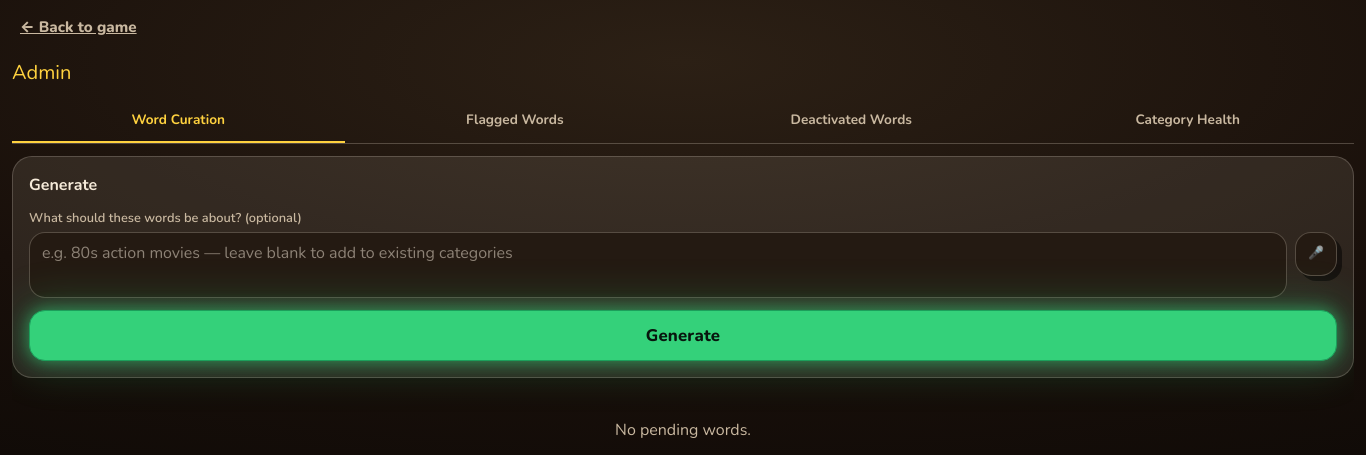
AdminScreen › fetches and shows similar-word suggestions after deactivating a flagged word
Expected: the heading "Generate" is shown, [29,174,97,196]
Click the tab "Flagged Words". click: (515, 121)
box: [348,99,681,143]
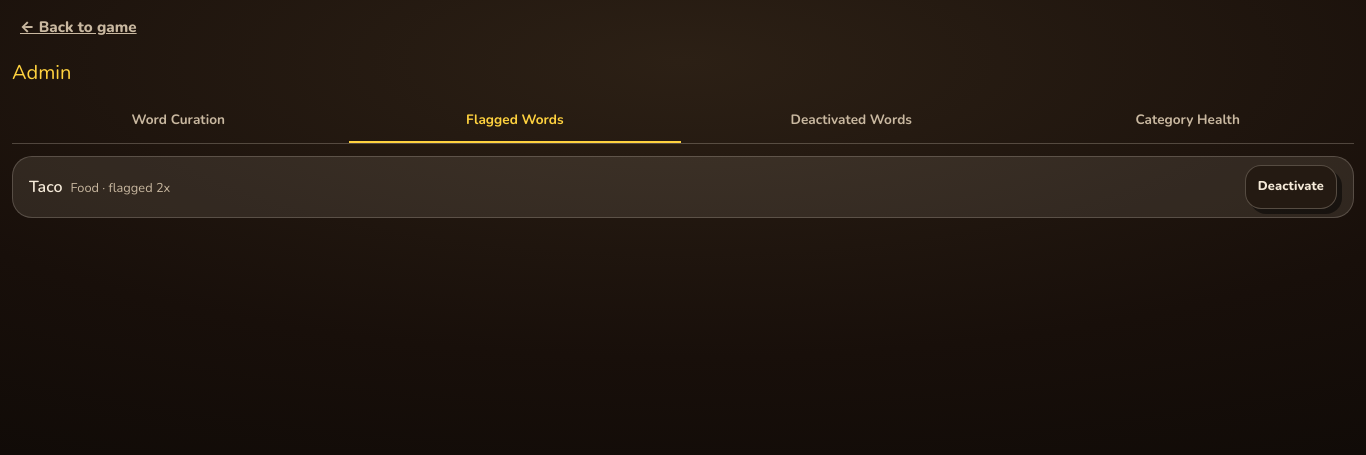
Click the button "Deactivate". click: (1291, 187)
box: [1245,165,1337,209]
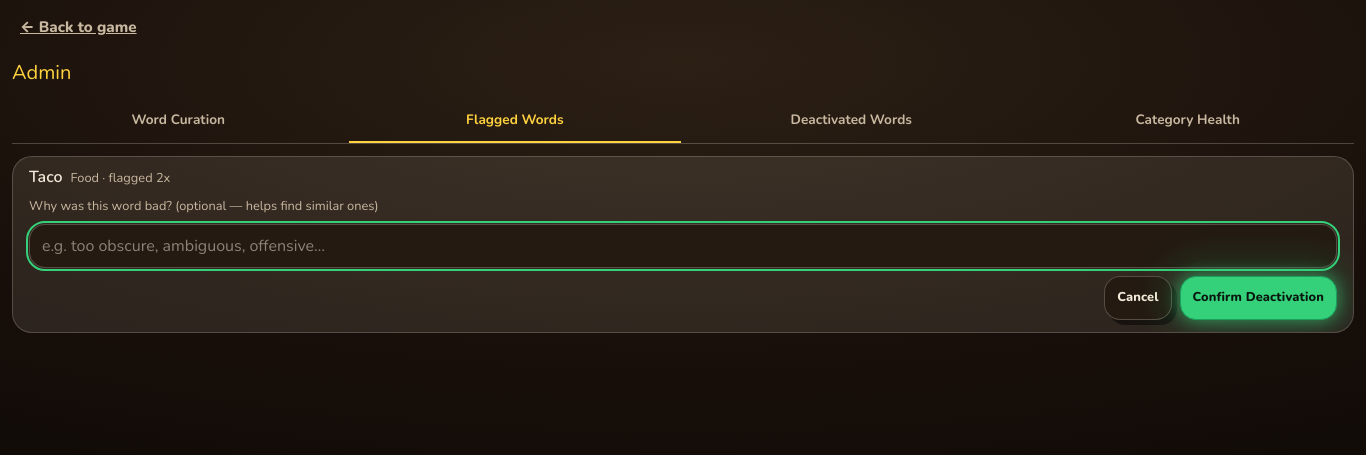
Click the button "Confirm Deactivation". click: (1258, 298)
box: [1180,276,1337,320]
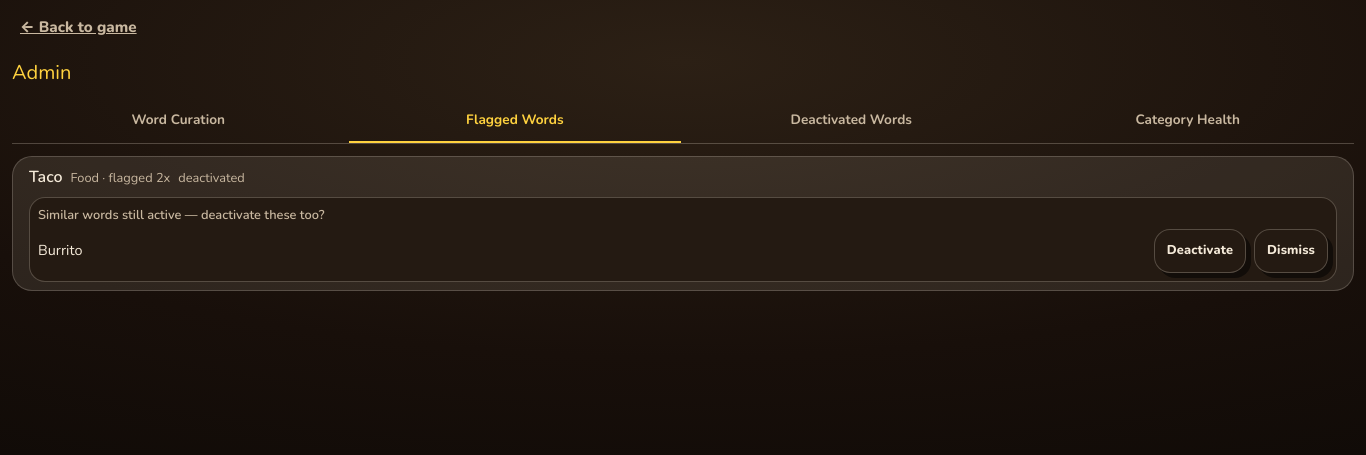
Now the text "Burrito" is shown, box [38,240,82,260]
